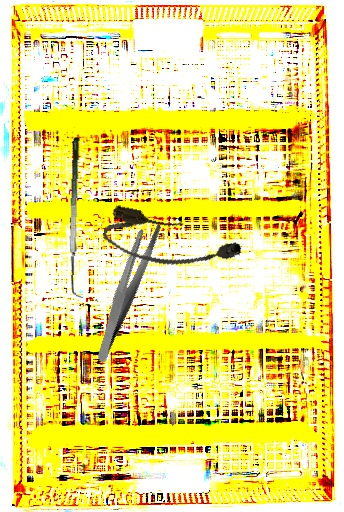Cannula: (99, 203, 245, 283)
Dressing Forceps: (63, 216, 190, 365)
Spatula Surgical: (63, 137, 93, 298)
